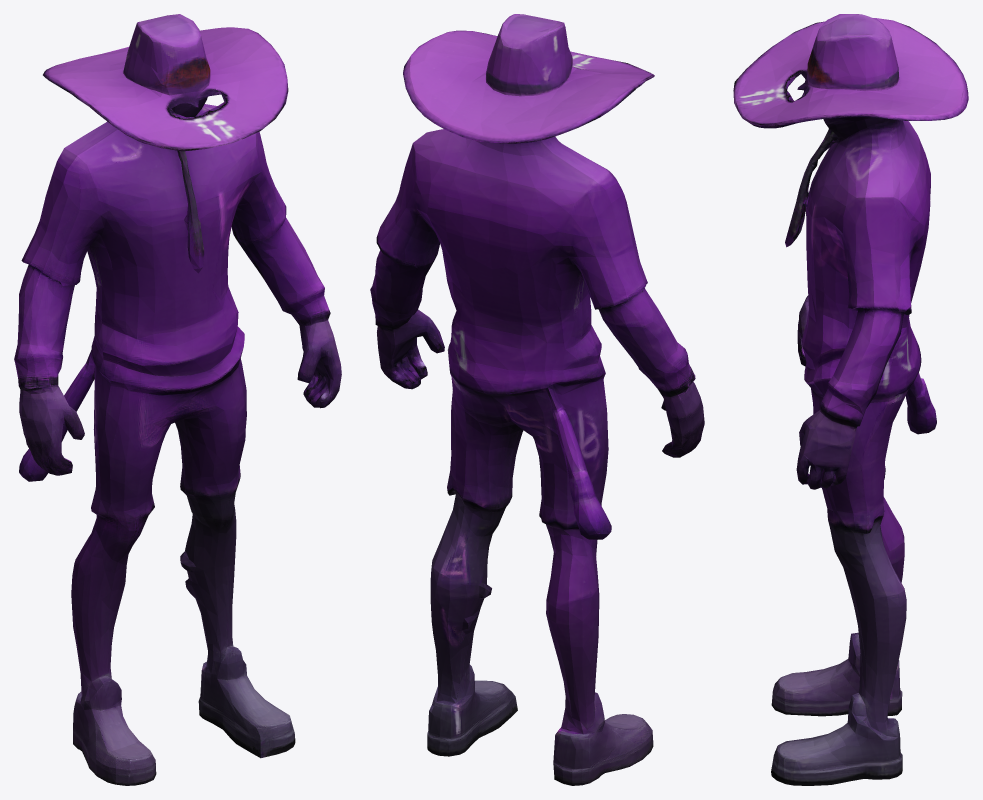
The model's file is after.glb.
3 renders of one model, left to right at view 1: azimuth 30°, elevation 25°; view 2: azimuth 150°, elevation 25°; view 3: azimuth 270°, elevation 25°, orthographic. The views are drawn at different scales.
Parts seen in each view (by area): view 1: world; view 2: world; view 3: world.
Boxes of the visible parts, bbox=[...] form: world: bbox=[14, 14, 341, 785]; world: bbox=[370, 14, 704, 785]; world: bbox=[733, 14, 968, 785].
Size of the model in its own units: 0.4417 by 0.9898 by 0.295.
Materials: 1 (1 with a texture image).
